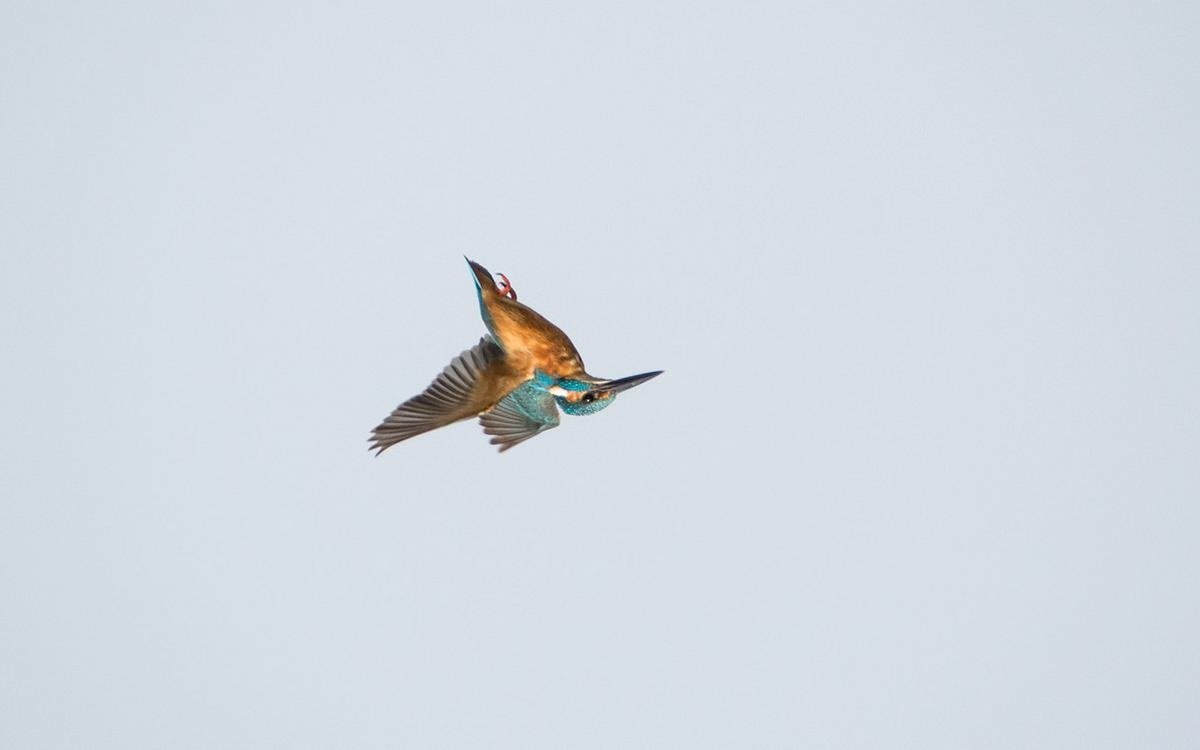kingfisher: (370, 236, 679, 482)
